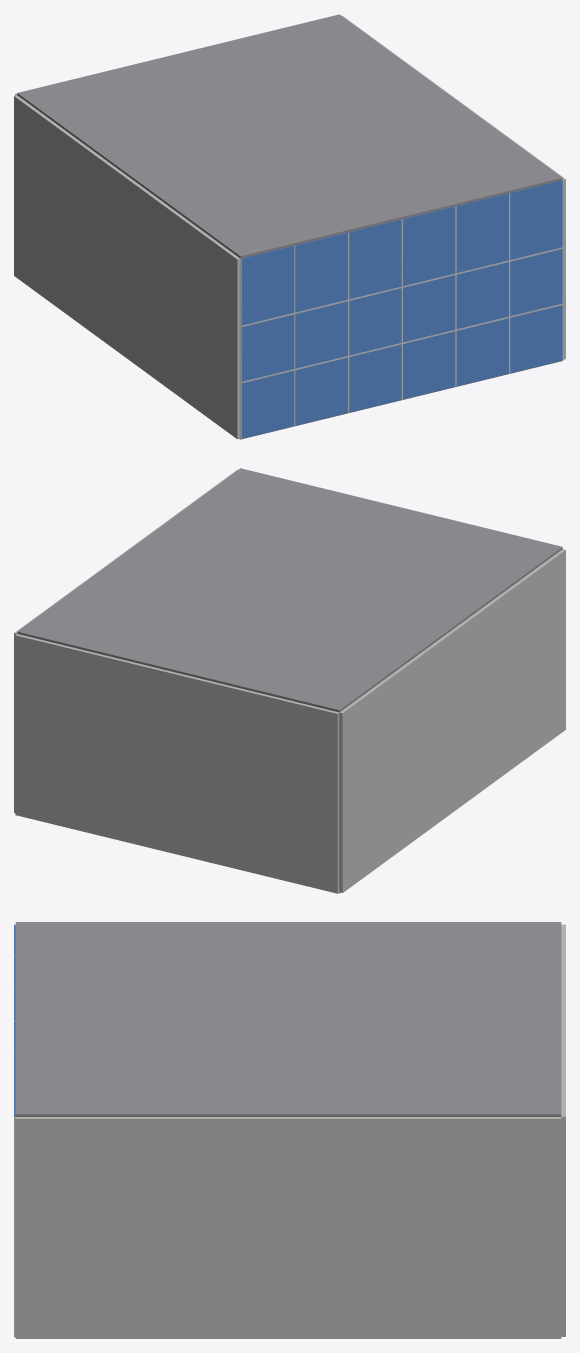
File: atrium.glb
3 renders of one model, top to bottom at view 1: azimuth 30°, elevation 25°; view 2: azimuth 150°, elevation 25°; view 3: azimuth 270°, elevation 25°, orthographic. The views are drawn at different scales.
Visible parts, largest first — view 1: ceiling.002, glass_back, m_atr_wall, m_atr_truss; view 2: m_atr_wall, ceiling.002; view 3: m_atr_wall, ceiling.002.
Part boxes in pixels (x1=…): ceiling.002: x1=17, y1=14, x2=562, y2=258; glass_back: x1=241, y1=180, x2=562, y2=438; m_atr_wall: x1=14, y1=16, x2=565, y2=439; m_atr_truss: x1=239, y1=179, x2=563, y2=438; m_atr_wall: x1=14, y1=469, x2=565, y2=893; ceiling.002: x1=17, y1=468, x2=562, y2=712; m_atr_wall: x1=15, y1=924, x2=565, y2=1338; ceiling.002: x1=15, y1=922, x2=561, y2=1116.
Size of the model in its own units: 30.6 by 16.3 by 36.4.
